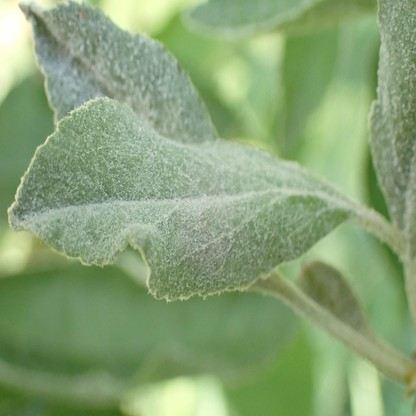powder: (7, 97, 351, 302), (17, 1, 217, 142), (368, 1, 416, 242), (301, 268, 361, 325)
